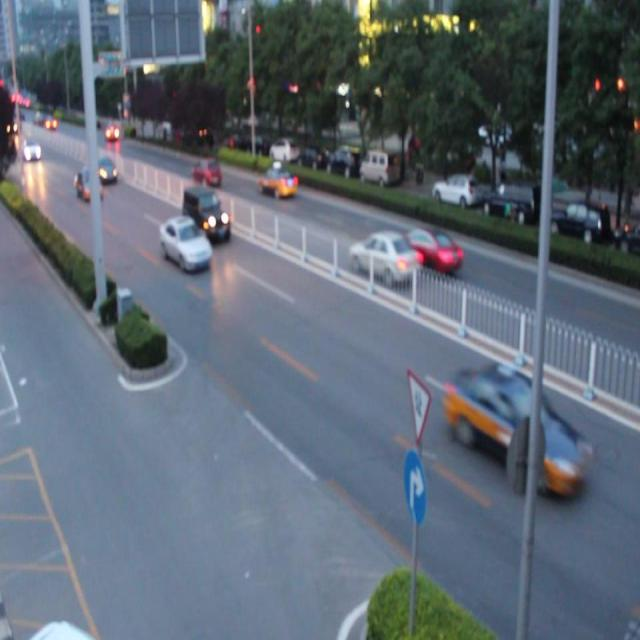car: (450, 370, 584, 493), (353, 234, 416, 284), (184, 188, 230, 243), (162, 216, 208, 269), (401, 229, 458, 271), (261, 171, 295, 199), (193, 160, 220, 188), (75, 172, 101, 198), (94, 156, 116, 182)
